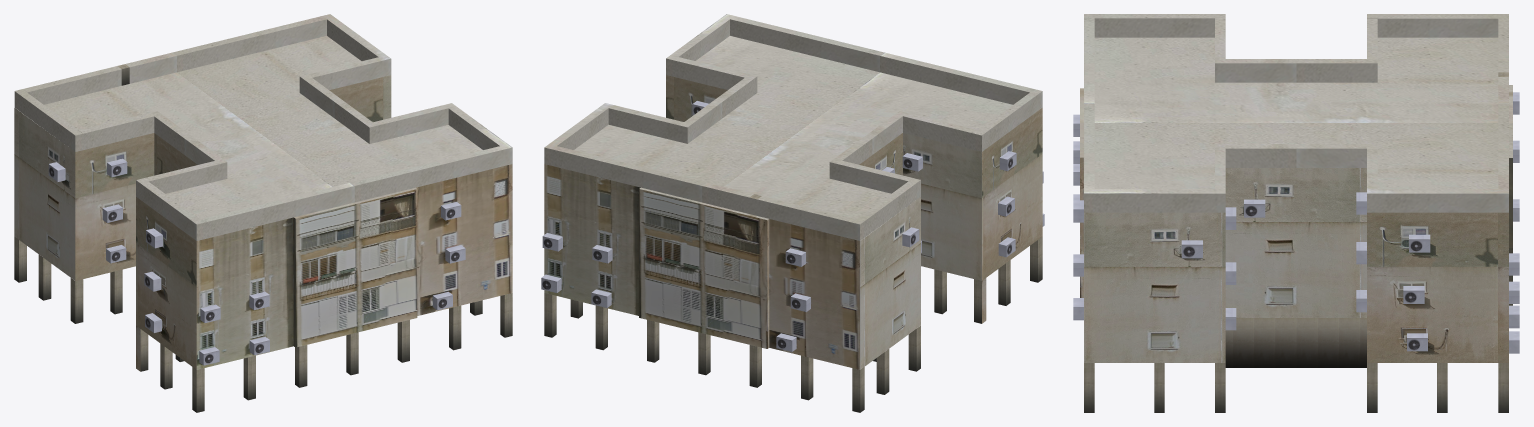
Rendered from BUILDINGFINALOLD.gltf.
3 renders of one model, left to right at view 1: azimuth 30°, elevation 25°; view 2: azimuth 150°, elevation 25°; view 3: azimuth 270°, elevation 25°, orthographic. The views are drawn at different scales.
Visible parts, largest first — view 1: node4, node8, node6, node11, node7, node2, node3; view 2: node4, node8, node11, node6, node7, node2, node3; view 3: node4, node11, node6, node5, node3, node7, node2, node9.
Boxes of the visible parts, x1=… form: node4: x1=14, y1=14, x2=512, y2=240; node8: x1=196, y1=164, x2=512, y2=369; node6: x1=75, y1=77, x2=383, y2=371; node11: x1=14, y1=75, x2=391, y2=280; node7: x1=14, y1=64, x2=512, y2=412; node2: x1=48, y1=162, x2=465, y2=365; node3: x1=49, y1=159, x2=464, y2=365; node4: x1=544, y1=14, x2=1042, y2=240; node8: x1=544, y1=164, x2=859, y2=369; node11: x1=860, y1=133, x2=981, y2=369; node6: x1=666, y1=75, x2=1042, y2=323; node7: x1=544, y1=194, x2=1042, y2=412; node2: x1=541, y1=104, x2=1016, y2=351; node3: x1=541, y1=101, x2=1044, y2=351; node4: x1=1080, y1=14, x2=1512, y2=212; node11: x1=1084, y1=168, x2=1366, y2=362; node6: x1=1367, y1=212, x2=1508, y2=362; node5: x1=1225, y1=318, x2=1366, y2=367; node3: x1=1073, y1=92, x2=1519, y2=353; node7: x1=1084, y1=72, x2=1512, y2=412; node2: x1=1181, y1=239, x2=1430, y2=351; node9: x1=1509, y1=158, x2=1512, y2=305.
Size of the model in its own units: 21 by 11.4 by 21.
